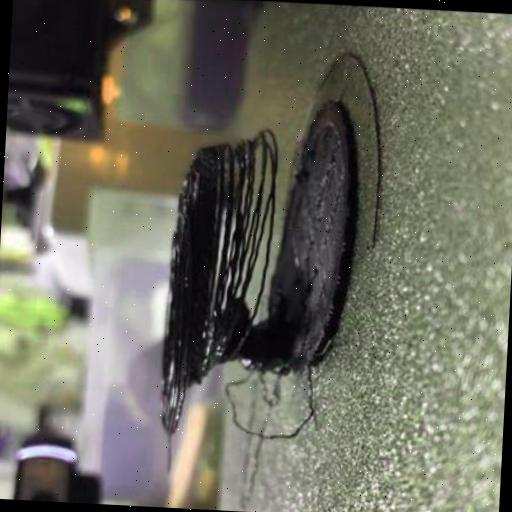spaghetti: (208, 124, 278, 362), (218, 360, 316, 442), (163, 434, 175, 476)
